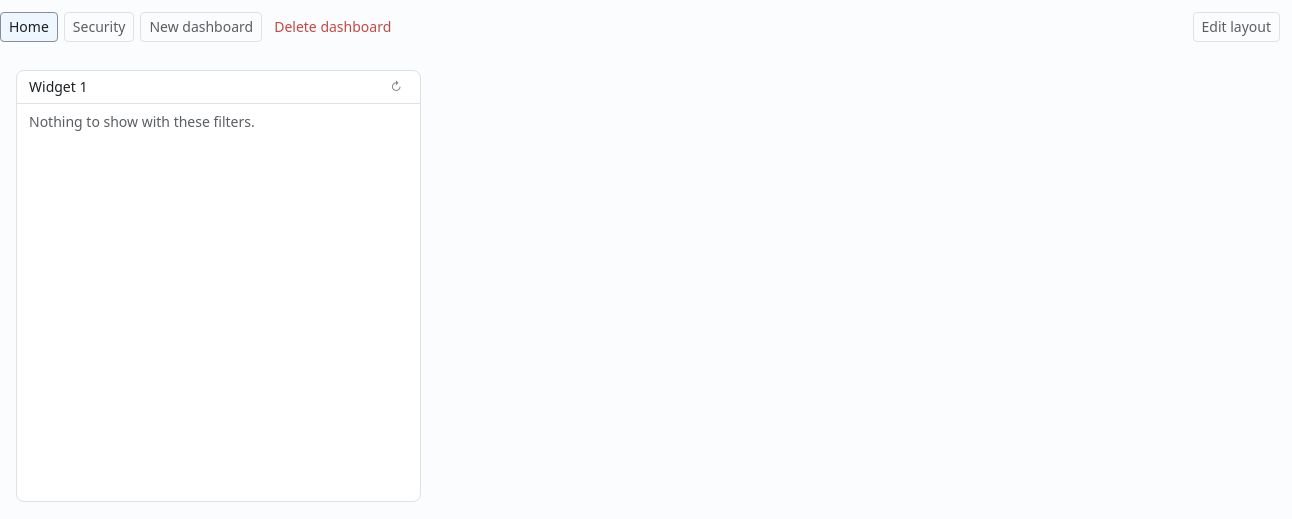
Test: editing a dashboard › refreshes one widget without refetching the dashboard
Expected: the heading "Widget 1" is shown, [29,77,88,97]
What coordinates should you click on to do the following:
click the button named "Refresh this widget"
I would click on:
 (396, 87)
Its box is [384,77,408,97].
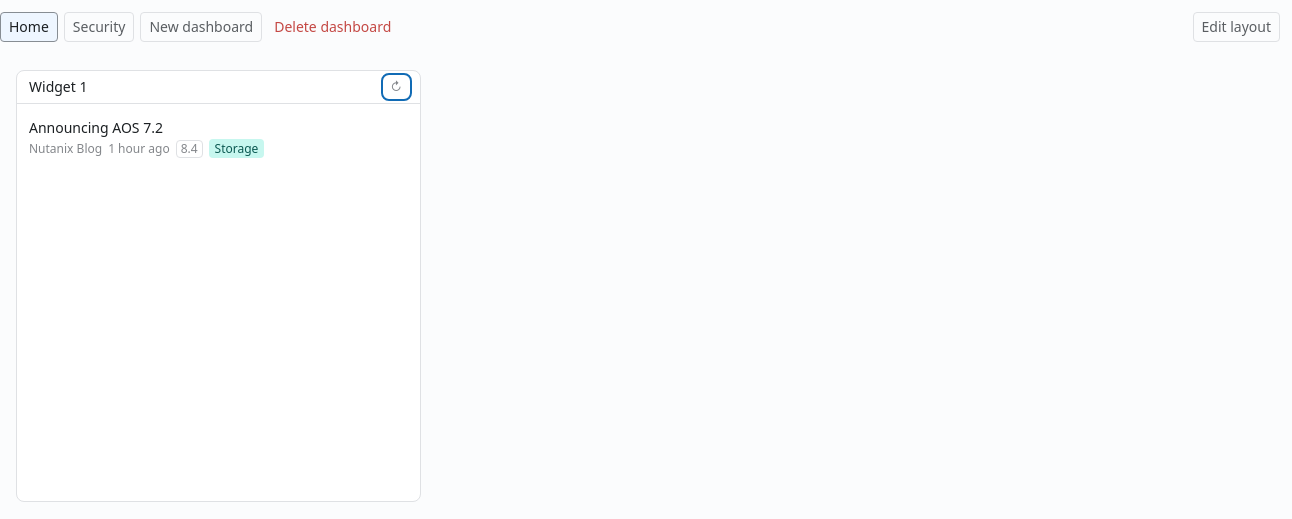
Result: the link "Announcing AOS 7.2" is shown at [29,118,163,137]
